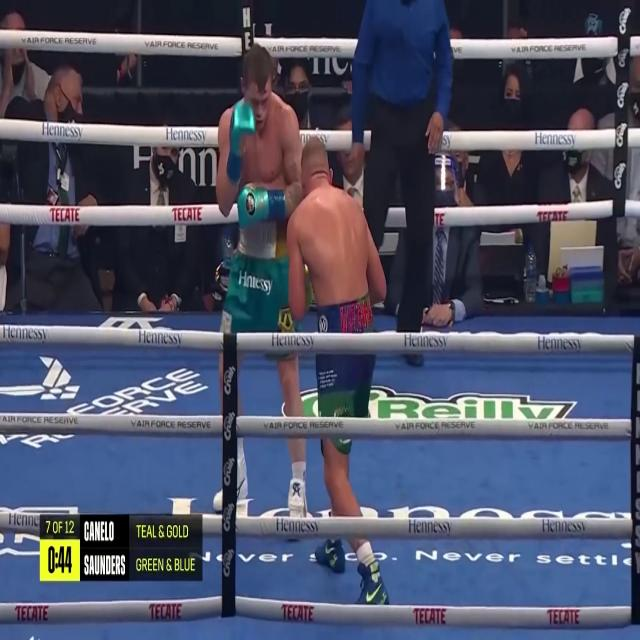boxer_1: (288, 138, 386, 320)
boxer_2: (216, 43, 302, 218), (226, 97, 255, 183), (237, 183, 287, 227), (238, 219, 287, 257), (280, 364, 299, 407)
